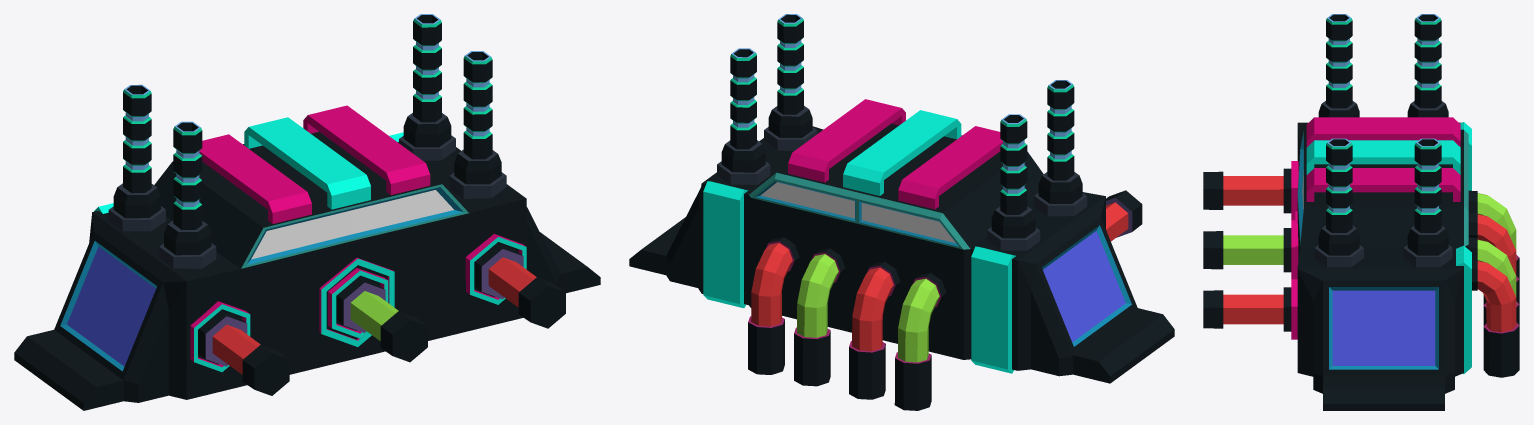
Rendered from Distributor_Mesh.fbx.
3 views of the same model, side by side, from view 1: azimuth 30°, elevation 25°; view 2: azimuth 150°, elevation 25°; view 3: azimuth 270°, elevation 25° (orthographic). The views are drawn at different scales.
Parts seen in each view (by area): view 1: Distributor_LOD0, DistributorOutput.002, DistributorOutput.001, DistributorOutput.003; view 2: Distributor_LOD0, DistributorOutput.001; view 3: Distributor_LOD0, DistributorOutput.003, DistributorOutput.002, DistributorOutput.001.
Part boxes in pixels (left/top/right/bottom): Distributor_LOD0: left=14, top=14, right=600, bottom=410; DistributorOutput.002: left=336, top=277, right=427, bottom=362; DistributorOutput.001: left=198, top=311, right=289, bottom=395; DistributorOutput.003: left=474, top=243, right=565, bottom=328; Distributor_LOD0: left=629, top=14, right=1174, bottom=410; DistributorOutput.001: left=1106, top=190, right=1142, bottom=241; Distributor_LOD0: left=1291, top=14, right=1519, bottom=410; DistributorOutput.003: left=1203, top=287, right=1291, bottom=331; DistributorOutput.002: left=1203, top=228, right=1291, bottom=272; DistributorOutput.001: left=1203, top=168, right=1291, bottom=213.
Size of what is drawn, in the model's own units: 2621 by 1410 by 1578.
5 materials, 1 textured.
